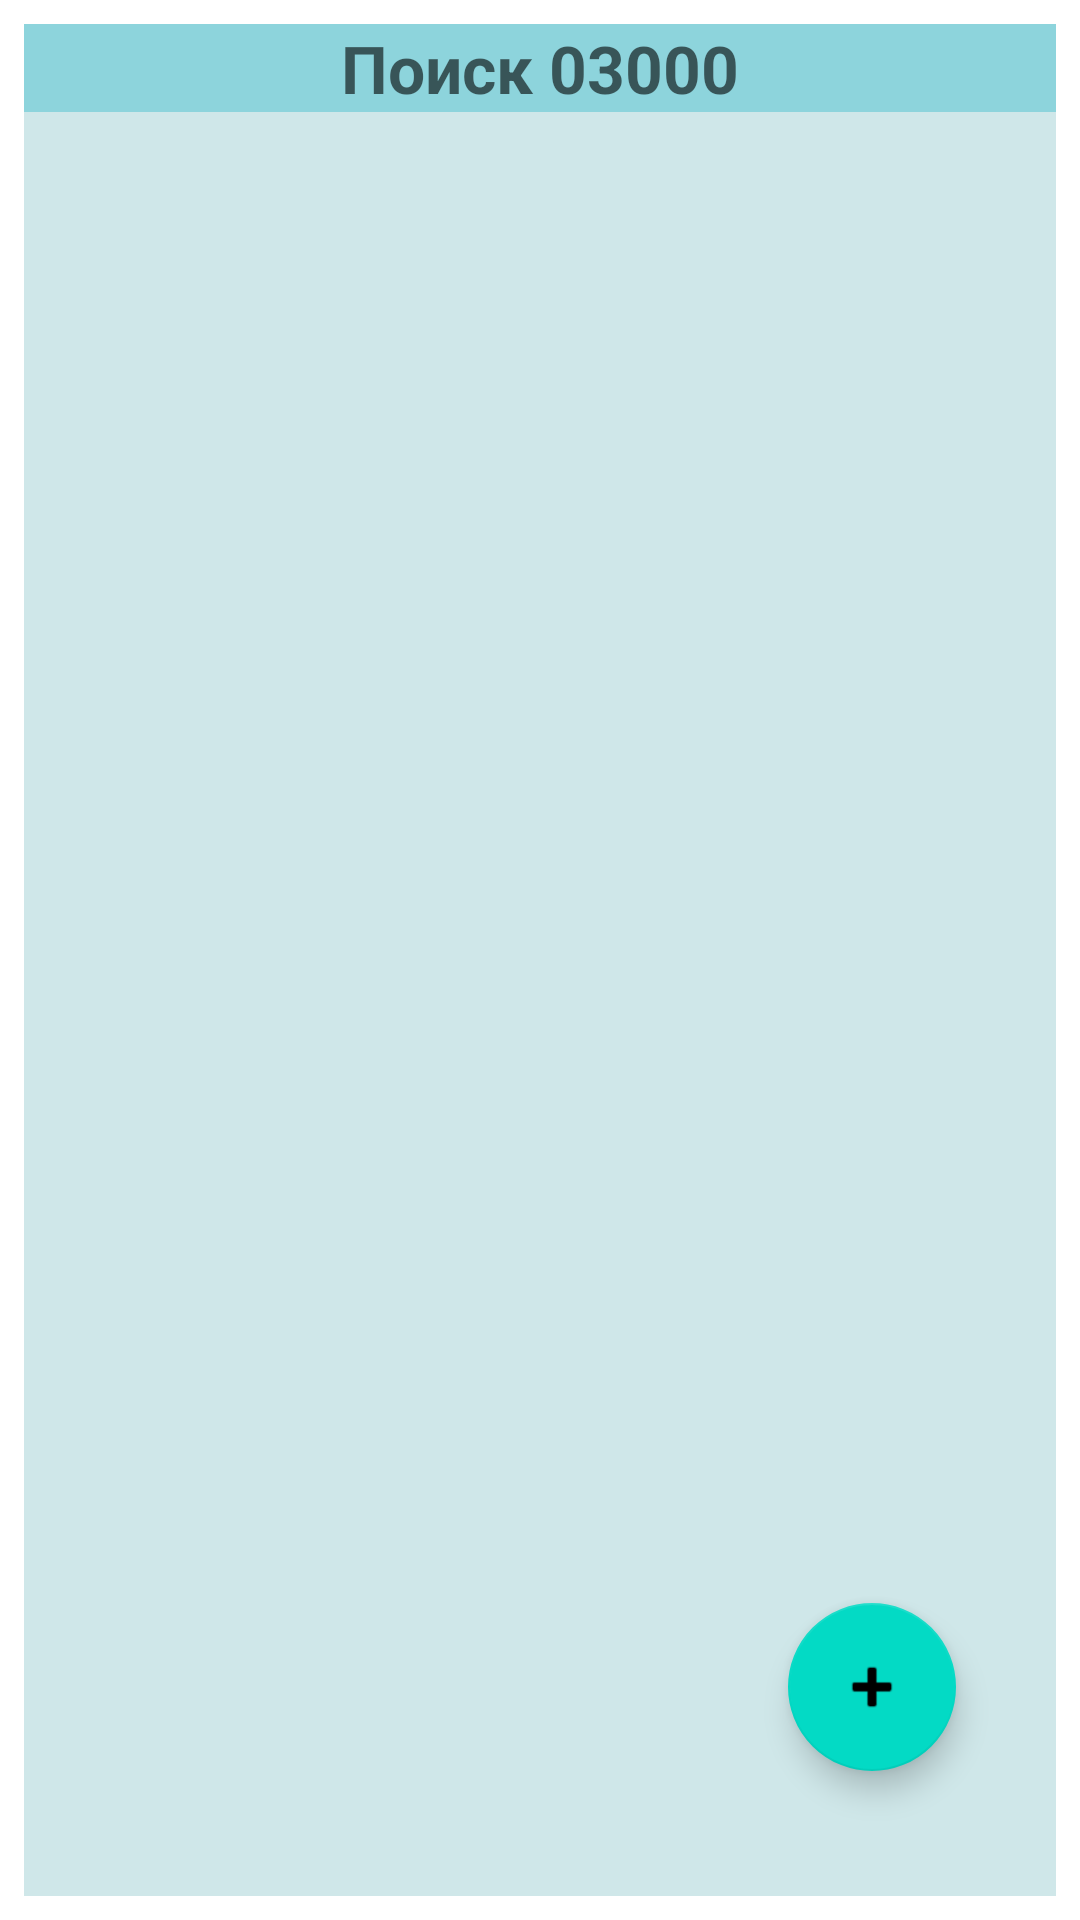

Named icons in this screenshot (1080×1920) and their bounding boxes, (x1, y1, x2, y2):
add: (788, 1603, 956, 1771)
